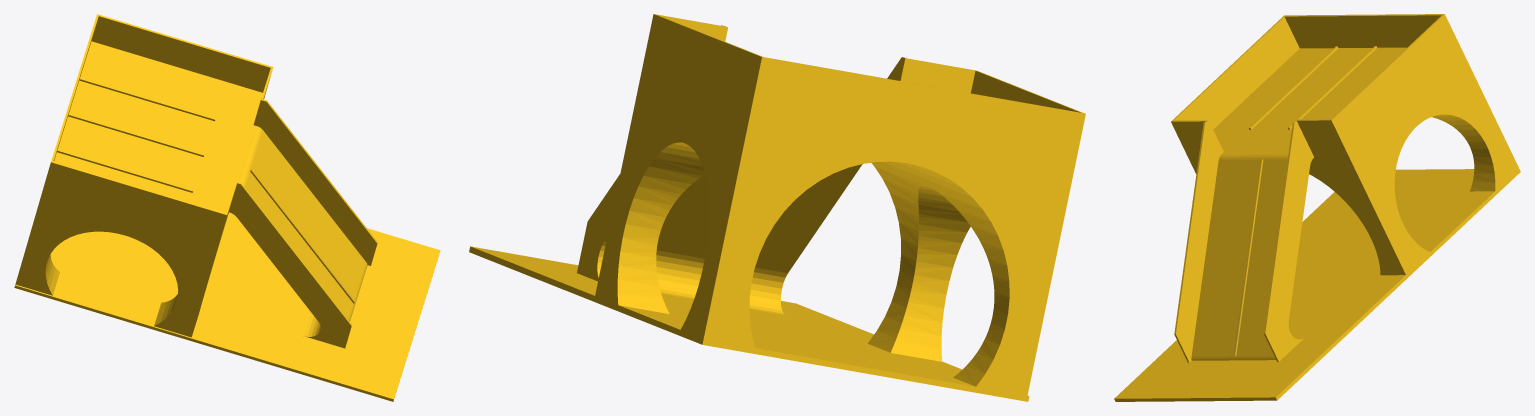
The model's file is toyramp.glb.
The picture shows the model from 3 angles, left to right: view 1: azimuth 30°, elevation 25°; view 2: azimuth 150°, elevation 25°; view 3: azimuth 270°, elevation 25°; orthographic projection. The views are drawn at different scales.
Parts seen in each view (by area): view 1: node_id3; view 2: node_id3; view 3: node_id3.
Boxes of the visible parts, x1,y1,x2,y2 form: node_id3: [14, 14, 440, 401]; node_id3: [469, 14, 1085, 401]; node_id3: [1114, 14, 1520, 401].
Size of the model in its own units: 1.03 by 0.7771 by 0.9012.
Materials: 1 (1 with a texture image).
